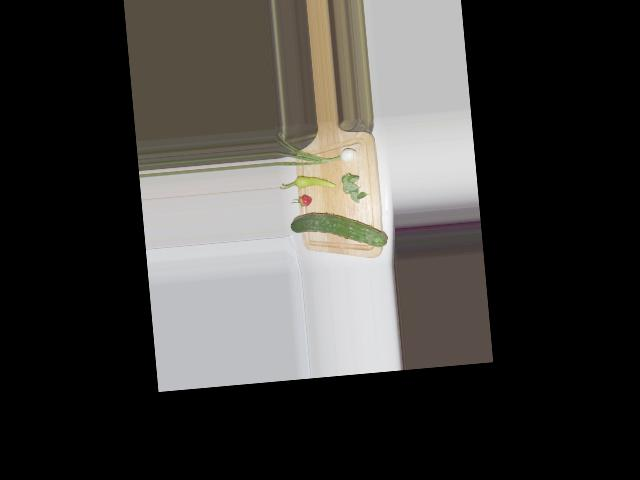cucumber: (290, 207, 387, 255)
